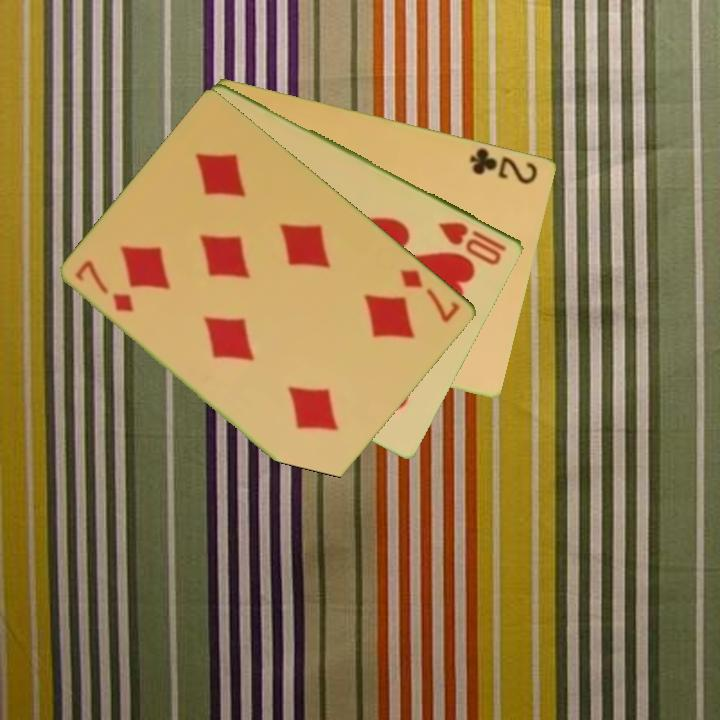10h: (435, 218, 510, 268)
2c: (466, 144, 541, 187)
7d: (396, 265, 464, 326), (72, 257, 137, 315)
